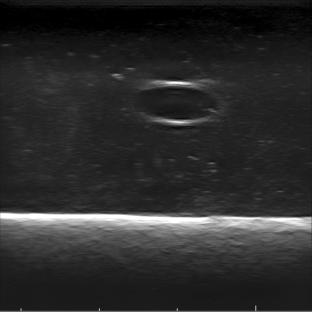vessel: (132, 81, 220, 126)
